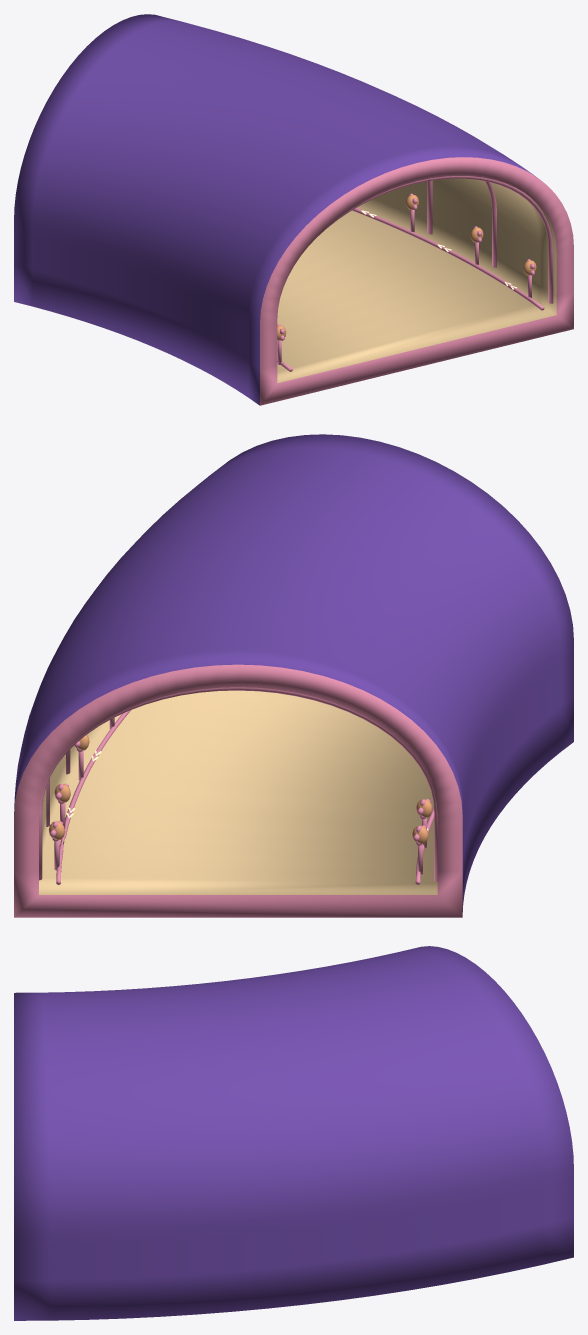
File: curve_left_30.glb
3 views of the same model, one above another, from view 1: azimuth 30°, elevation 25°; view 2: azimuth 150°, elevation 25°; view 3: azimuth 270°, elevation 25° (orthographic). The views are drawn at different scales.
Visible parts, largest first — view 1: TunnelGeometry; view 2: TunnelGeometry; view 3: TunnelGeometry.
Boxes of the visible parts, <box> form: TunnelGeometry: <box>14,14,573,405</box>; TunnelGeometry: <box>14,434,573,917</box>; TunnelGeometry: <box>14,946,573,1320</box>.
Bounding box in the file's own units: 19.1 × 9.52 × 21.83.
Materials: 5 (2 with a texture image).
